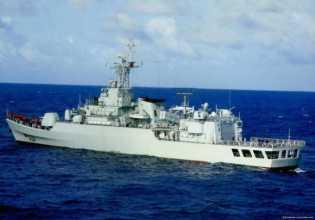warship: (6, 50, 307, 172)
